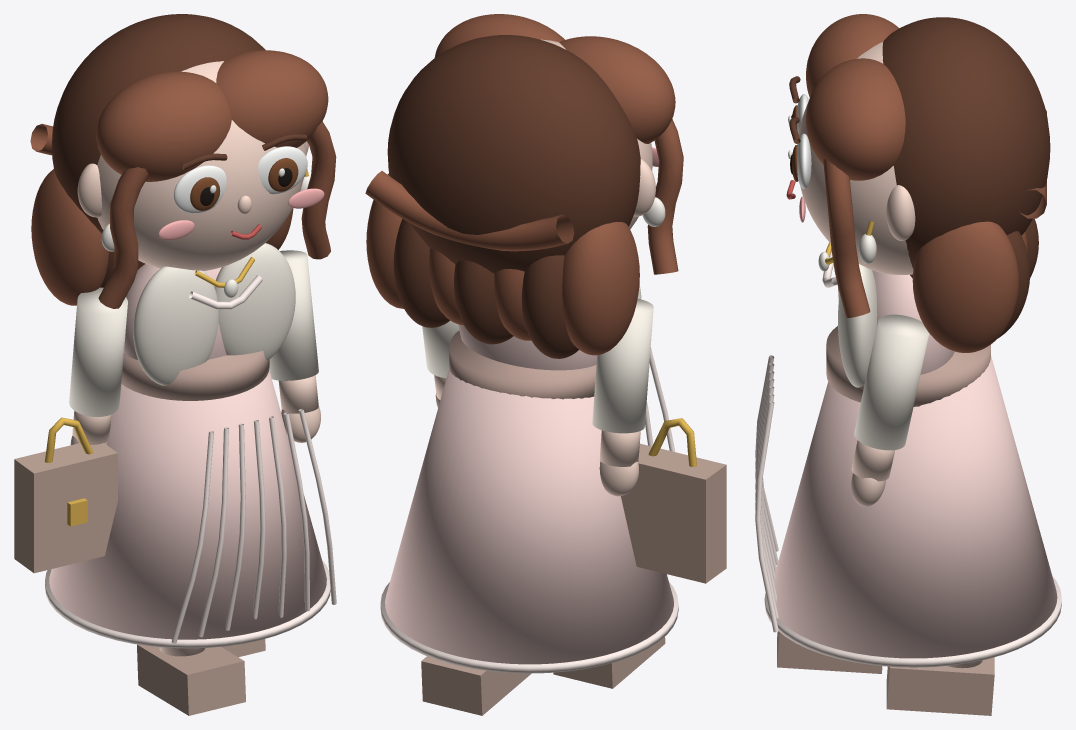
The model's file is guest-01-master.glb.
The picture shows the model from 3 angles, left to right: view 1: azimuth 30°, elevation 25°; view 2: azimuth 150°, elevation 25°; view 3: azimuth 270°, elevation 25°; orthographic projection. The views are drawn at different scales.
Visible parts, largest first — view 1: Skirt, Head, Hair back, Hair left crown, Handbag, Hair right crown, Left bolero panel, Back wave 1, Right bolero panel, Sleeve -1, Shoe -1, Waist belt (+26 smaller); view 2: Skirt, Hair back, Handbag, Back wave 1, Hair left crown, Sleeve -1, Back braid, Waist belt, Back wave 2, Shoe 1, Back wave 6, Skirt hem (+13 smaller); view 3: Skirt, Hair back, Back wave 7, Hair right crown, Sleeve 1, Head, Shoe 1, Face curl 1, Waist belt, Hair left crown, Skirt hem, Right bolero panel (+10 smaller).
Boxes of the visible parts, box(x1,y1,x2,y2) form: Skirt: box(49, 370, 326, 639); Head: box(97, 61, 306, 270); Hair back: box(51, 14, 265, 233); Hair left crown: box(96, 71, 231, 181); Handbag: box(14, 443, 117, 573); Hair right crown: box(216, 50, 328, 147); Left bolero panel: box(133, 266, 218, 385); Back wave 1: box(31, 169, 108, 305); Right bolero panel: box(214, 243, 295, 360); Sleeve -1: box(69, 287, 127, 416); Shoe -1: box(137, 644, 245, 715); Waist belt: box(121, 351, 269, 400); Skirt: box(385, 369, 673, 664); Hair back: box(387, 35, 640, 273); Handbag: box(621, 443, 726, 583); Back wave 1: box(562, 222, 639, 355); Hair left crown: box(559, 36, 675, 143); Sleeve -1: box(592, 298, 653, 433); Back braid: box(365, 171, 574, 251); Waist belt: box(449, 330, 596, 399); Back wave 2: box(521, 255, 578, 358); Shoe 1: box(421, 656, 530, 715); Back wave 6: box(393, 218, 449, 327); Skirt hem: box(380, 582, 678, 673); Skirt: box(774, 356, 1057, 658); Hair back: box(882, 17, 1050, 269); Back wave 7: box(912, 221, 1018, 352); Hair right crown: box(806, 58, 905, 180); Sleeve 1: box(854, 314, 929, 450); Head: box(797, 42, 913, 274); Shoe 1: box(886, 657, 994, 715); Face curl 1: box(823, 158, 870, 317); Waist belt: box(826, 326, 990, 406); Hair left crown: box(806, 14, 899, 97); Skirt hem: box(764, 576, 1061, 667); Right bolero panel: box(838, 264, 877, 387).
Bounding box in the file's own units: 1.55 × 3.16 × 1.34.
